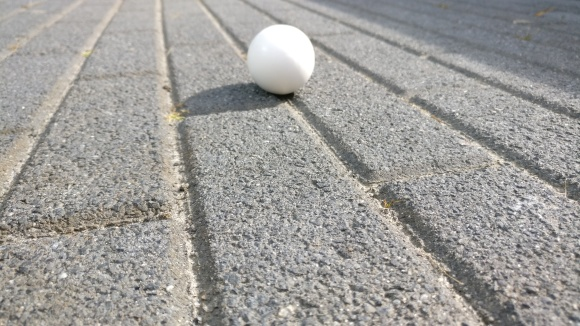egg: (246, 23, 316, 95)
